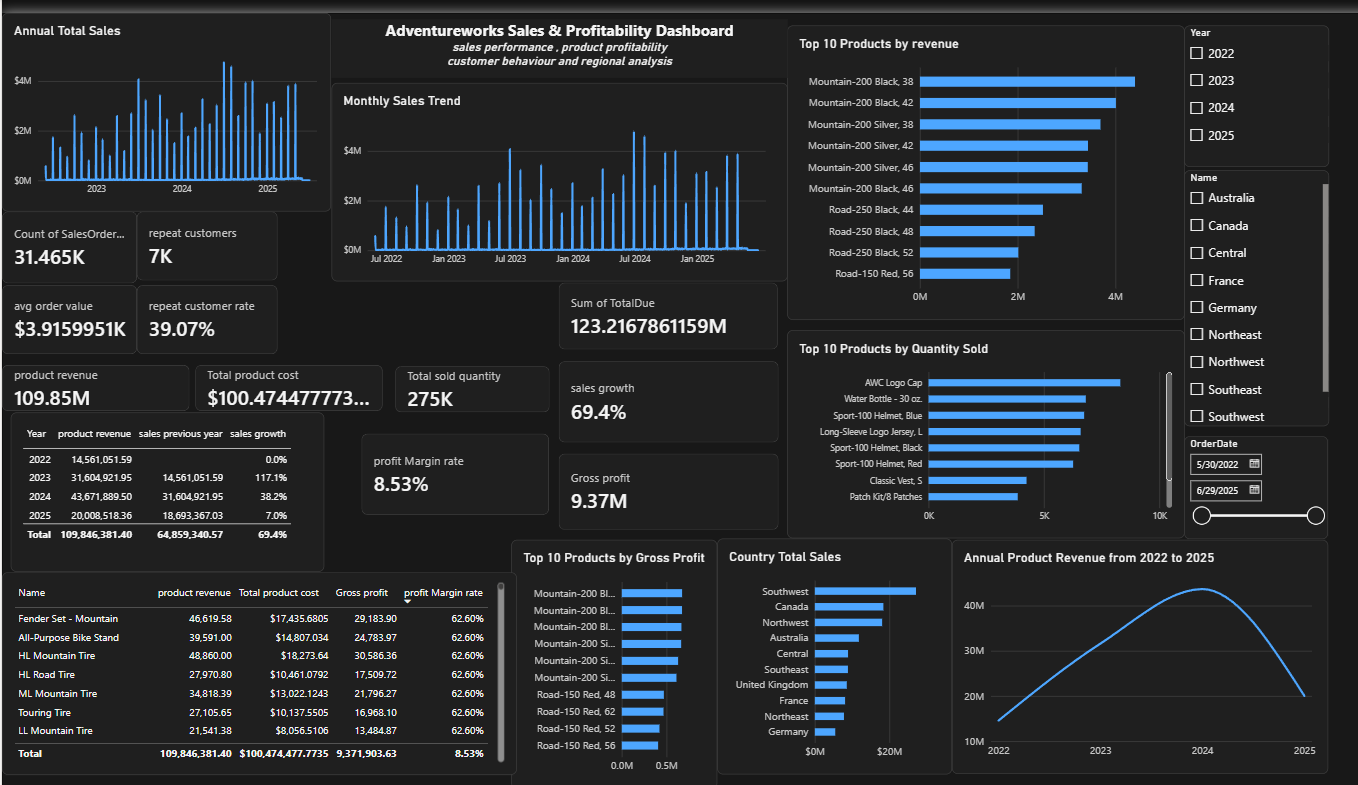

What the dashboard file says about the page in this screenshot:
{"tool":"powerbi","page":{"name":"Page 1","canvas":[1920,1080],"ordinal":0},"visuals":[{"type":"cardVisual","title":"sadadad","fields":{"Data":["Sum(Sales SalesOrderHeader.TotalDue)"]},"box":[776,376,305,93.3],"z":0},{"type":"cardVisual","fields":{"Data":["CountNonNull(Sales SalesOrderHeader.SalesOrderID)"]},"box":[0,276.7,188.3,100],"z":1000},{"type":"cardVisual","title":"Average order Value","fields":{"Data":["Production Product.avg order value"]},"box":[0,378.3,188.3,96.7],"z":2000},{"type":"lineChart","title":"Monthly Sales Trend","fields":{"Category":["Sales SalesOrderHeader.OrderDate.Variation.Date Hierarchy.Year"],"Y":["Production Product.Total Sales"]},"box":[458.3,96.7,635,276.7],"z":3000},{"type":"clusteredBarChart","title":"Top 10 Products by revenue","fields":{"Category":["Production Product.Name"],"Y":["Production Product.product revenue"]},"box":[1093.3,16.7,553.3,410],"z":4000},{"type":"clusteredBarChart","title":"Country Total Sales","fields":{"Category":["Sales SalesTerritory.Name"],"Y":["Production Product.Total Sales"]},"box":[996.7,731.7,326.7,328.3],"z":5000},{"type":"lineChart","title":"Annual Total Sales","fields":{"Category":["Sales SalesOrderHeader.OrderDate"],"Y":["Production Product.Total Sales"]},"box":[0,0,458.3,276.7],"z":6000},{"type":"slicer","fields":{"Values":["Calender.Date.Variation.Date Hierarchy.Year"]},"box":[1646.7,16.7,201.7,196.7],"z":7000},{"type":"slicer","fields":{"Values":["Sales SalesTerritory.Name"]},"box":[1646.7,218.3,201.7,356.7],"z":8000},{"type":"clusteredBarChart","title":"Top 10 Products by Quantity Sold","fields":{"Category":["Production Product.Name"],"Y":["Production Product.Total sold quantity"]},"box":[1093.3,441.7,553.3,290],"z":9000},{"type":"cardVisual","fields":{"Data":["Production Product.Total sold quantity"]},"box":[442,398,305,75],"z":10000},{"type":"cardVisual","fields":{"Data":["Production Product.repeat customers"]},"box":[188.3,276.7,196.7,96.7],"z":11000},{"type":"cardVisual","fields":{"Data":["select","Production Product.repeat customer rate"]},"box":[188.3,378.3,196.7,96.7],"z":12000},{"type":"cardVisual","fields":{"Data":["Production Product.Total product cost"]},"box":[458,490,288.3,63.3],"z":13000},{"type":"cardVisual","fields":{"Data":["Production Product.Gross profit"]},"box":[772,574,306.7,106.7],"z":14000},{"type":"cardVisual","fields":{"Data":["Production Product.profit Margin rate"]},"box":[484,574,261.7,113.3],"z":15000},{"type":"clusteredBarChart","title":"Top 10 Products by Gross Profit","fields":{"Category":["Production Product.Name"],"Y":["Production Product.Gross profit"]},"box":[710,733.3,286.7,346.7],"z":16000},{"type":"tableEx","fields":{"Values":["Production Product.Name","Production Product.product revenue","Production Product.Total product cost","Production Product.Gross profit","Production Product.profit Margin rate"]},"box":[0,778.3,716.7,281.7],"z":17000},{"type":"lineChart","title":"Annual Product Revenue from 2022 to 2025","fields":{"Category":["Calender.Date.Variation.Date Hierarchy.Year"],"Y":["Production Product.product revenue"]},"box":[1323.3,733.3,524,326],"z":18000},{"type":"cardVisual","fields":{"Data":["Calender.sales growth"]},"box":[774,466,306.7,113.3],"z":19000},{"type":"tableEx","fields":{"Values":["Calender.Date.Variation.Date Hierarchy.Year","Production Product.product revenue","Calender.sales previous year","Calender.sales growth"]},"box":[11.7,556.7,436.7,221.7],"z":20000},{"type":"slicer","fields":{"Values":["Sales SalesOrderHeader.OrderDate"]},"box":[1646.7,590,200,143.3],"z":21000},{"type":"textbox","box":[458.3,8.3,635,81.7],"z":23000}]}

Visuals, with their boxes in screenshot pixels (x1, y1, x2, y2), scaled from the page's 1920x1080 canvas onto the 1358x785 screenshot:
"sadadad" cardVisual: (549, 273, 765, 341)
cardVisual - CountNonNull(Sales SalesOrderHeader.SalesOrderID): (0, 201, 133, 274)
"Average order Value" cardVisual: (0, 275, 133, 345)
"Monthly Sales Trend" lineChart: (324, 70, 773, 271)
"Top 10 Products by revenue" clusteredBarChart: (773, 12, 1165, 310)
"Country Total Sales" clusteredBarChart: (705, 532, 936, 770)
"Annual Total Sales" lineChart: (0, 0, 324, 201)
slicer - Calender.Date.Variation.Date Hierarchy.Year: (1165, 12, 1307, 155)
slicer - Sales SalesTerritory.Name: (1165, 159, 1307, 418)
"Top 10 Products by Quantity Sold" clusteredBarChart: (773, 321, 1165, 532)
cardVisual - Production Product.Total sold quantity: (313, 289, 528, 344)
cardVisual - Production Product.repeat customers: (133, 201, 272, 271)
cardVisual - select x Production Product.repeat customer rate: (133, 275, 272, 345)
cardVisual - Production Product.Total product cost: (324, 356, 528, 402)
cardVisual - Production Product.Gross profit: (546, 417, 763, 495)
cardVisual - Production Product.profit Margin rate: (342, 417, 527, 500)
"Top 10 Products by Gross Profit" clusteredBarChart: (502, 533, 705, 784)
tableEx - Production Product.Name x Production Product.product revenue: (0, 566, 507, 770)
"Annual Product Revenue from 2022 to 2025" lineChart: (936, 533, 1307, 770)
cardVisual - Calender.sales growth: (547, 339, 764, 421)
tableEx - Calender.Date.Variation.Date Hierarchy.Year x Production Product.product revenue: (8, 405, 317, 566)
slicer - Sales SalesOrderHeader.OrderDate: (1165, 429, 1306, 533)
textbox: (324, 6, 773, 65)
